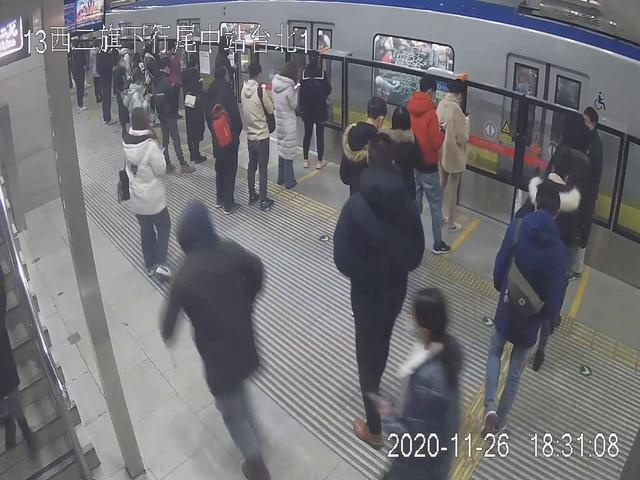person: (167, 196, 277, 480), (336, 135, 409, 445), (479, 185, 563, 445), (378, 285, 460, 480), (403, 74, 454, 254), (124, 104, 175, 276), (434, 76, 481, 236), (234, 55, 273, 211), (204, 61, 242, 218), (295, 47, 333, 170), (266, 59, 299, 191)
